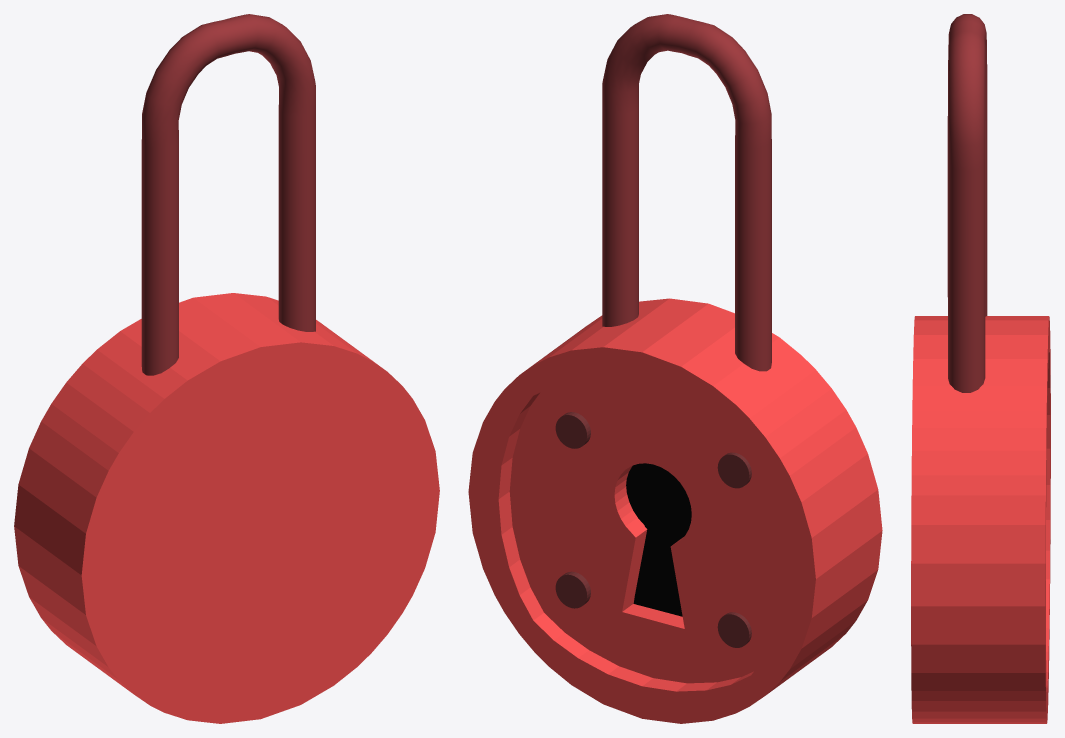
The model's file is LockRed.glb.
3 views of the same model, side by side, from view 1: azimuth 30°, elevation 25°; view 2: azimuth 150°, elevation 25°; view 3: azimuth 270°, elevation 25° (orthographic).
Visible parts, largest first — view 1: Plane.002, Plane.004; view 2: Plane.002, Plane.004, Plane.005, Cylinder.003, Cylinder.002; view 3: Plane.002, Plane.004.
Part boxes in pixels (left/top/right/bottom): Plane.002: left=14, top=293, right=439, bottom=723; Plane.004: left=141, top=14, right=315, bottom=375; Plane.002: left=468, top=298, right=882, bottom=723; Plane.004: left=602, top=14, right=771, bottom=371; Plane.005: left=626, top=463, right=691, bottom=616; Cylinder.003: left=555, top=412, right=590, bottom=608; Cylinder.002: left=717, top=452, right=751, bottom=647; Plane.002: left=911, top=316, right=1050, bottom=723; Plane.004: left=947, top=14, right=987, bottom=392.
Bounding box in the file's own units: 6.11 × 11.17 × 2.09.
